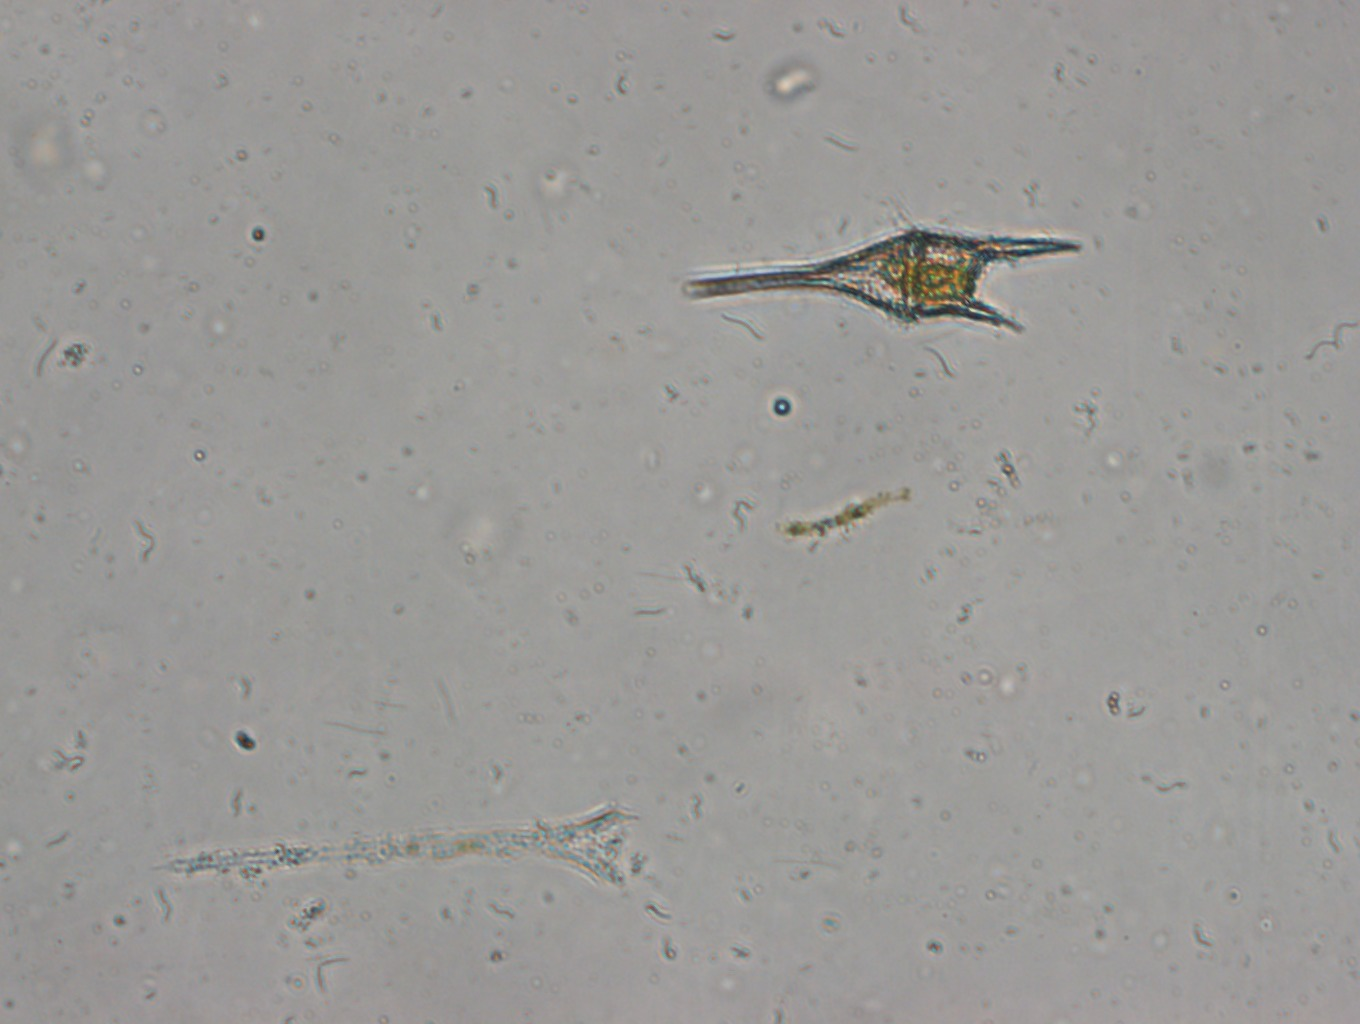ceratium furca: (672, 226, 1093, 339)
